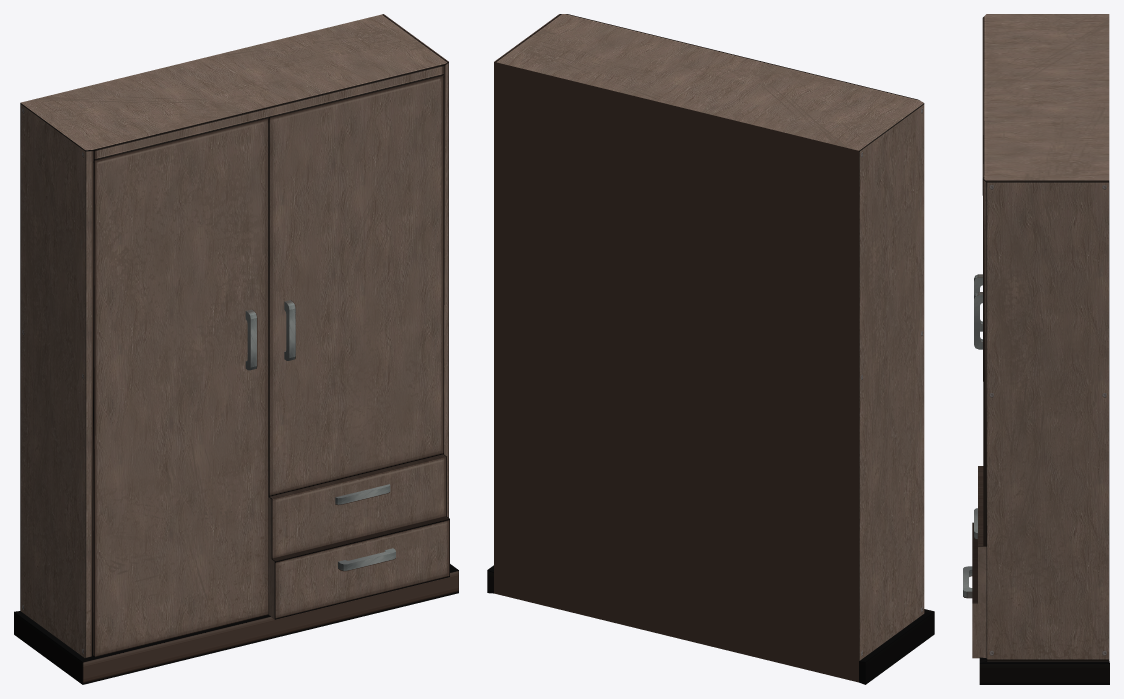
File: Closet.fbx
3 renders of one model, left to right at view 1: azimuth 30°, elevation 25°; view 2: azimuth 150°, elevation 25°; view 3: azimuth 270°, elevation 25°, orthographic. The views are drawn at different scales.
Parts seen in each view (by area): view 1: Plane, Plane.001; view 2: Plane; view 3: Plane, Plane.002, Plane.004.
Boxes of the visible parts, bbox=[...] form: Plane: bbox=[14, 14, 458, 684]; Plane.001: bbox=[245, 309, 257, 370]; Plane: bbox=[487, 14, 934, 684]; Plane: bbox=[972, 14, 1109, 684]; Plane.002: bbox=[974, 292, 982, 349]; Plane.004: bbox=[963, 566, 972, 598].
Bounding box in the file's own units: 783 × 1055 × 281.
Materials: 5 (5 with a texture image).
